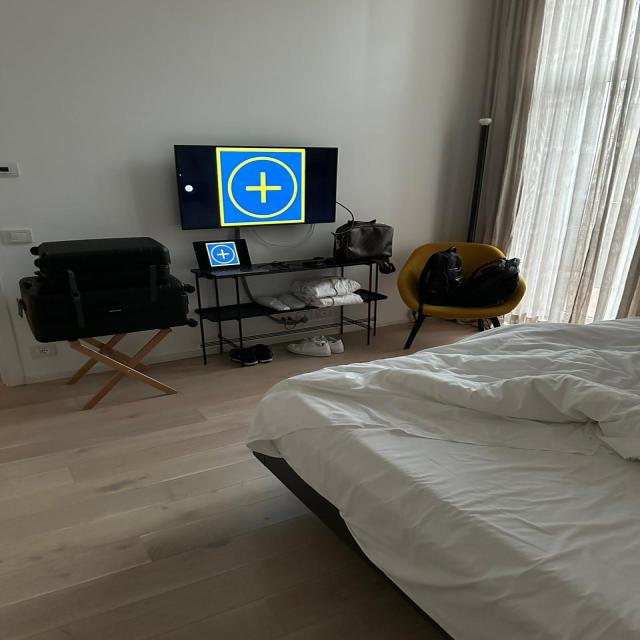Marker: (216, 147, 305, 226), (206, 242, 240, 266)
